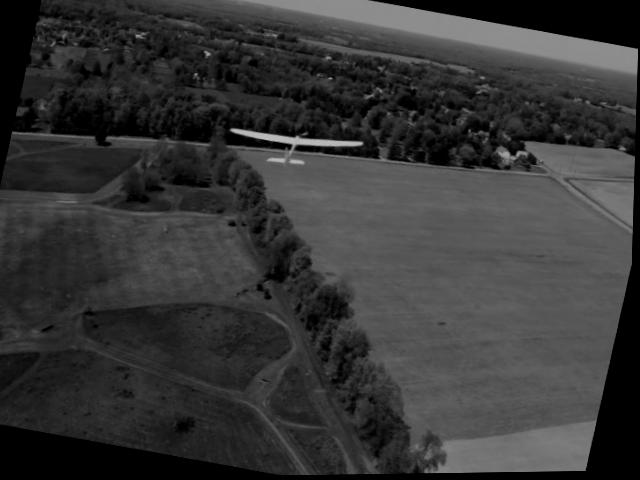hedef: (215, 103, 372, 192)
